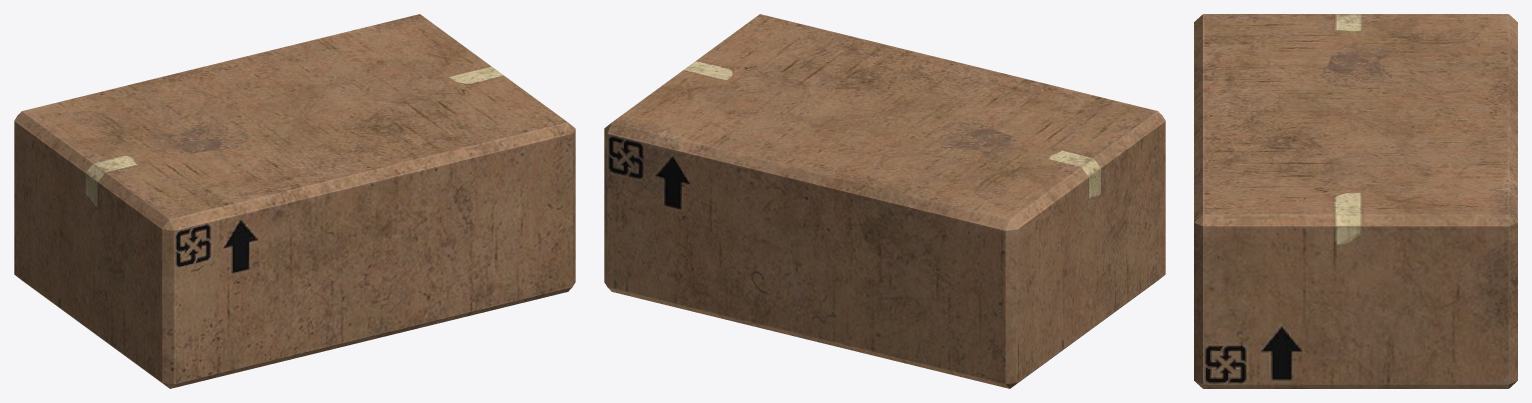
File: SM_Cardboard_Box01.glb
3 renders of one model, left to right at view 1: azimuth 30°, elevation 25°; view 2: azimuth 150°, elevation 25°; view 3: azimuth 270°, elevation 25°, orthographic. The views are drawn at different scales.
Parts seen in each view (by area): view 1: SM_Cardboard_Box01; view 2: SM_Cardboard_Box01; view 3: SM_Cardboard_Box01.
Part boxes in pixels (<box>): SM_Cardboard_Box01: <box>14,14,575,388</box>; SM_Cardboard_Box01: <box>604,14,1165,388</box>; SM_Cardboard_Box01: <box>1194,14,1517,388</box>.
Size of the model in its own units: 0.38 by 0.1487 by 0.25.
Materials: 1 (1 with a texture image).
